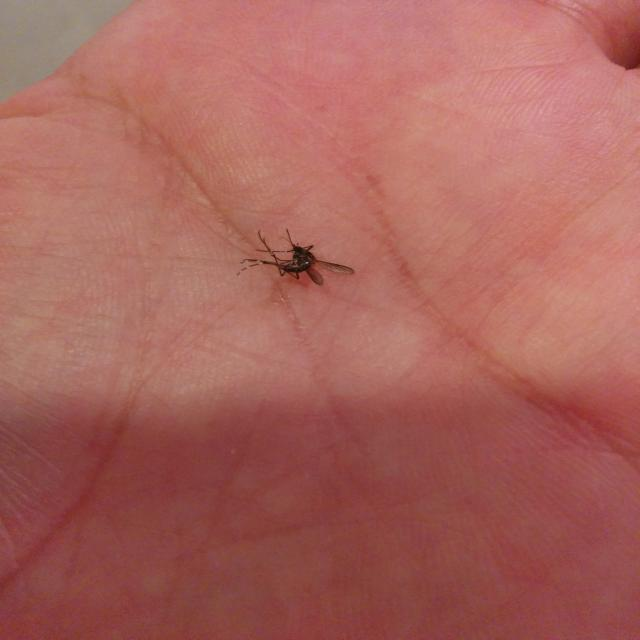albopictus: (238, 220, 358, 288)
